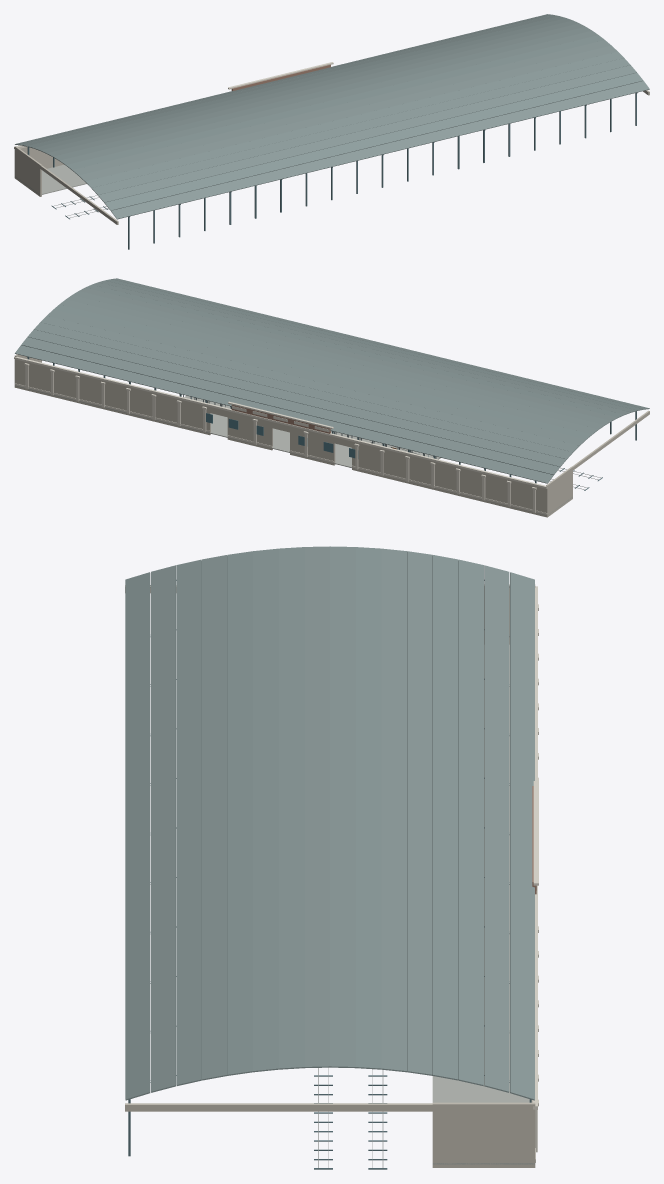
Rendered from civitas-central.glb.
3 views of the same model, one above another, from view 1: azimuth 30°, elevation 25°; view 2: azimuth 150°, elevation 25°; view 3: azimuth 270°, elevation 25° (orthographic). The views are drawn at different scales.
Visible parts, largest first — view 1: CENTRAL_visual_zone2_roof_zinc, CENTRAL_visual_zone0_station_limestone, CENTRAL_visual_zone2_concourse_terrazzo, CENTRAL_visual_zone0_roof_steel, CENTRAL_visual_zone2_roof_steel, CENTRAL_visual_zone1_roof_steel, CENTRAL_visual_zone3_roof_steel; view 2: CENTRAL_visual_zone2_roof_zinc, CENTRAL_visual_zone0_station_limestone, CENTRAL_visual_zone2_station_limestone, CENTRAL_visual_zone3_station_limestone, CENTRAL_visual_zone2_station_trim, CENTRAL_visual_zone2_concourse_terrazzo, CENTRAL_visual_zone0_station_trim, CENTRAL_visual_zone3_station_trim, CENTRAL_visual_zone1_station_limestone, CENTRAL_visual_zone1_station_trim, CENTRAL_visual_zone2_station_brick; view 3: CENTRAL_visual_zone2_roof_zinc, CENTRAL_visual_zone3_station_limestone, CENTRAL_visual_zone2_concourse_terrazzo, CENTRAL_visual_zone2_station_trim, CENTRAL_visual_zone3_roof_steel.
Part boxes in pixels (bbox=[...]): CENTRAL_visual_zone2_roof_zinc: bbox=[15, 14, 649, 219]; CENTRAL_visual_zone0_station_limestone: bbox=[14, 146, 118, 224]; CENTRAL_visual_zone2_concourse_terrazzo: bbox=[14, 164, 86, 194]; CENTRAL_visual_zone0_roof_steel: bbox=[27, 147, 231, 249]; CENTRAL_visual_zone2_roof_steel: bbox=[381, 123, 510, 187]; CENTRAL_visual_zone1_roof_steel: bbox=[254, 161, 357, 218]; CENTRAL_visual_zone3_roof_steel: bbox=[534, 92, 637, 150]; CENTRAL_visual_zone2_roof_zinc: bbox=[15, 278, 649, 483]; CENTRAL_visual_zone0_station_limestone: bbox=[352, 410, 649, 517]; CENTRAL_visual_zone2_station_limestone: bbox=[14, 359, 548, 494]; CENTRAL_visual_zone3_station_limestone: bbox=[14, 354, 210, 435]; CENTRAL_visual_zone2_station_trim: bbox=[14, 356, 547, 488]; CENTRAL_visual_zone2_concourse_terrazzo: bbox=[14, 385, 572, 515]; CENTRAL_visual_zone0_station_trim: bbox=[352, 462, 547, 514]; CENTRAL_visual_zone3_station_trim: bbox=[14, 363, 209, 432]; CENTRAL_visual_zone1_station_limestone: bbox=[290, 432, 335, 465]; CENTRAL_visual_zone1_station_trim: bbox=[289, 421, 409, 481]; CENTRAL_visual_zone2_station_brick: bbox=[231, 405, 330, 433]; CENTRAL_visual_zone2_roof_zinc: bbox=[125, 546, 534, 1100]; CENTRAL_visual_zone3_station_limestone: bbox=[125, 1102, 535, 1167]; CENTRAL_visual_zone2_concourse_terrazzo: bbox=[432, 644, 535, 1164]; CENTRAL_visual_zone2_station_trim: bbox=[533, 586, 538, 1109]; CENTRAL_visual_zone3_roof_steel: bbox=[128, 976, 531, 1169].
Size of what is drawn, in the model's own units: 601 by 55.29 by 202.
Materials: 15 (7 with a texture image).
